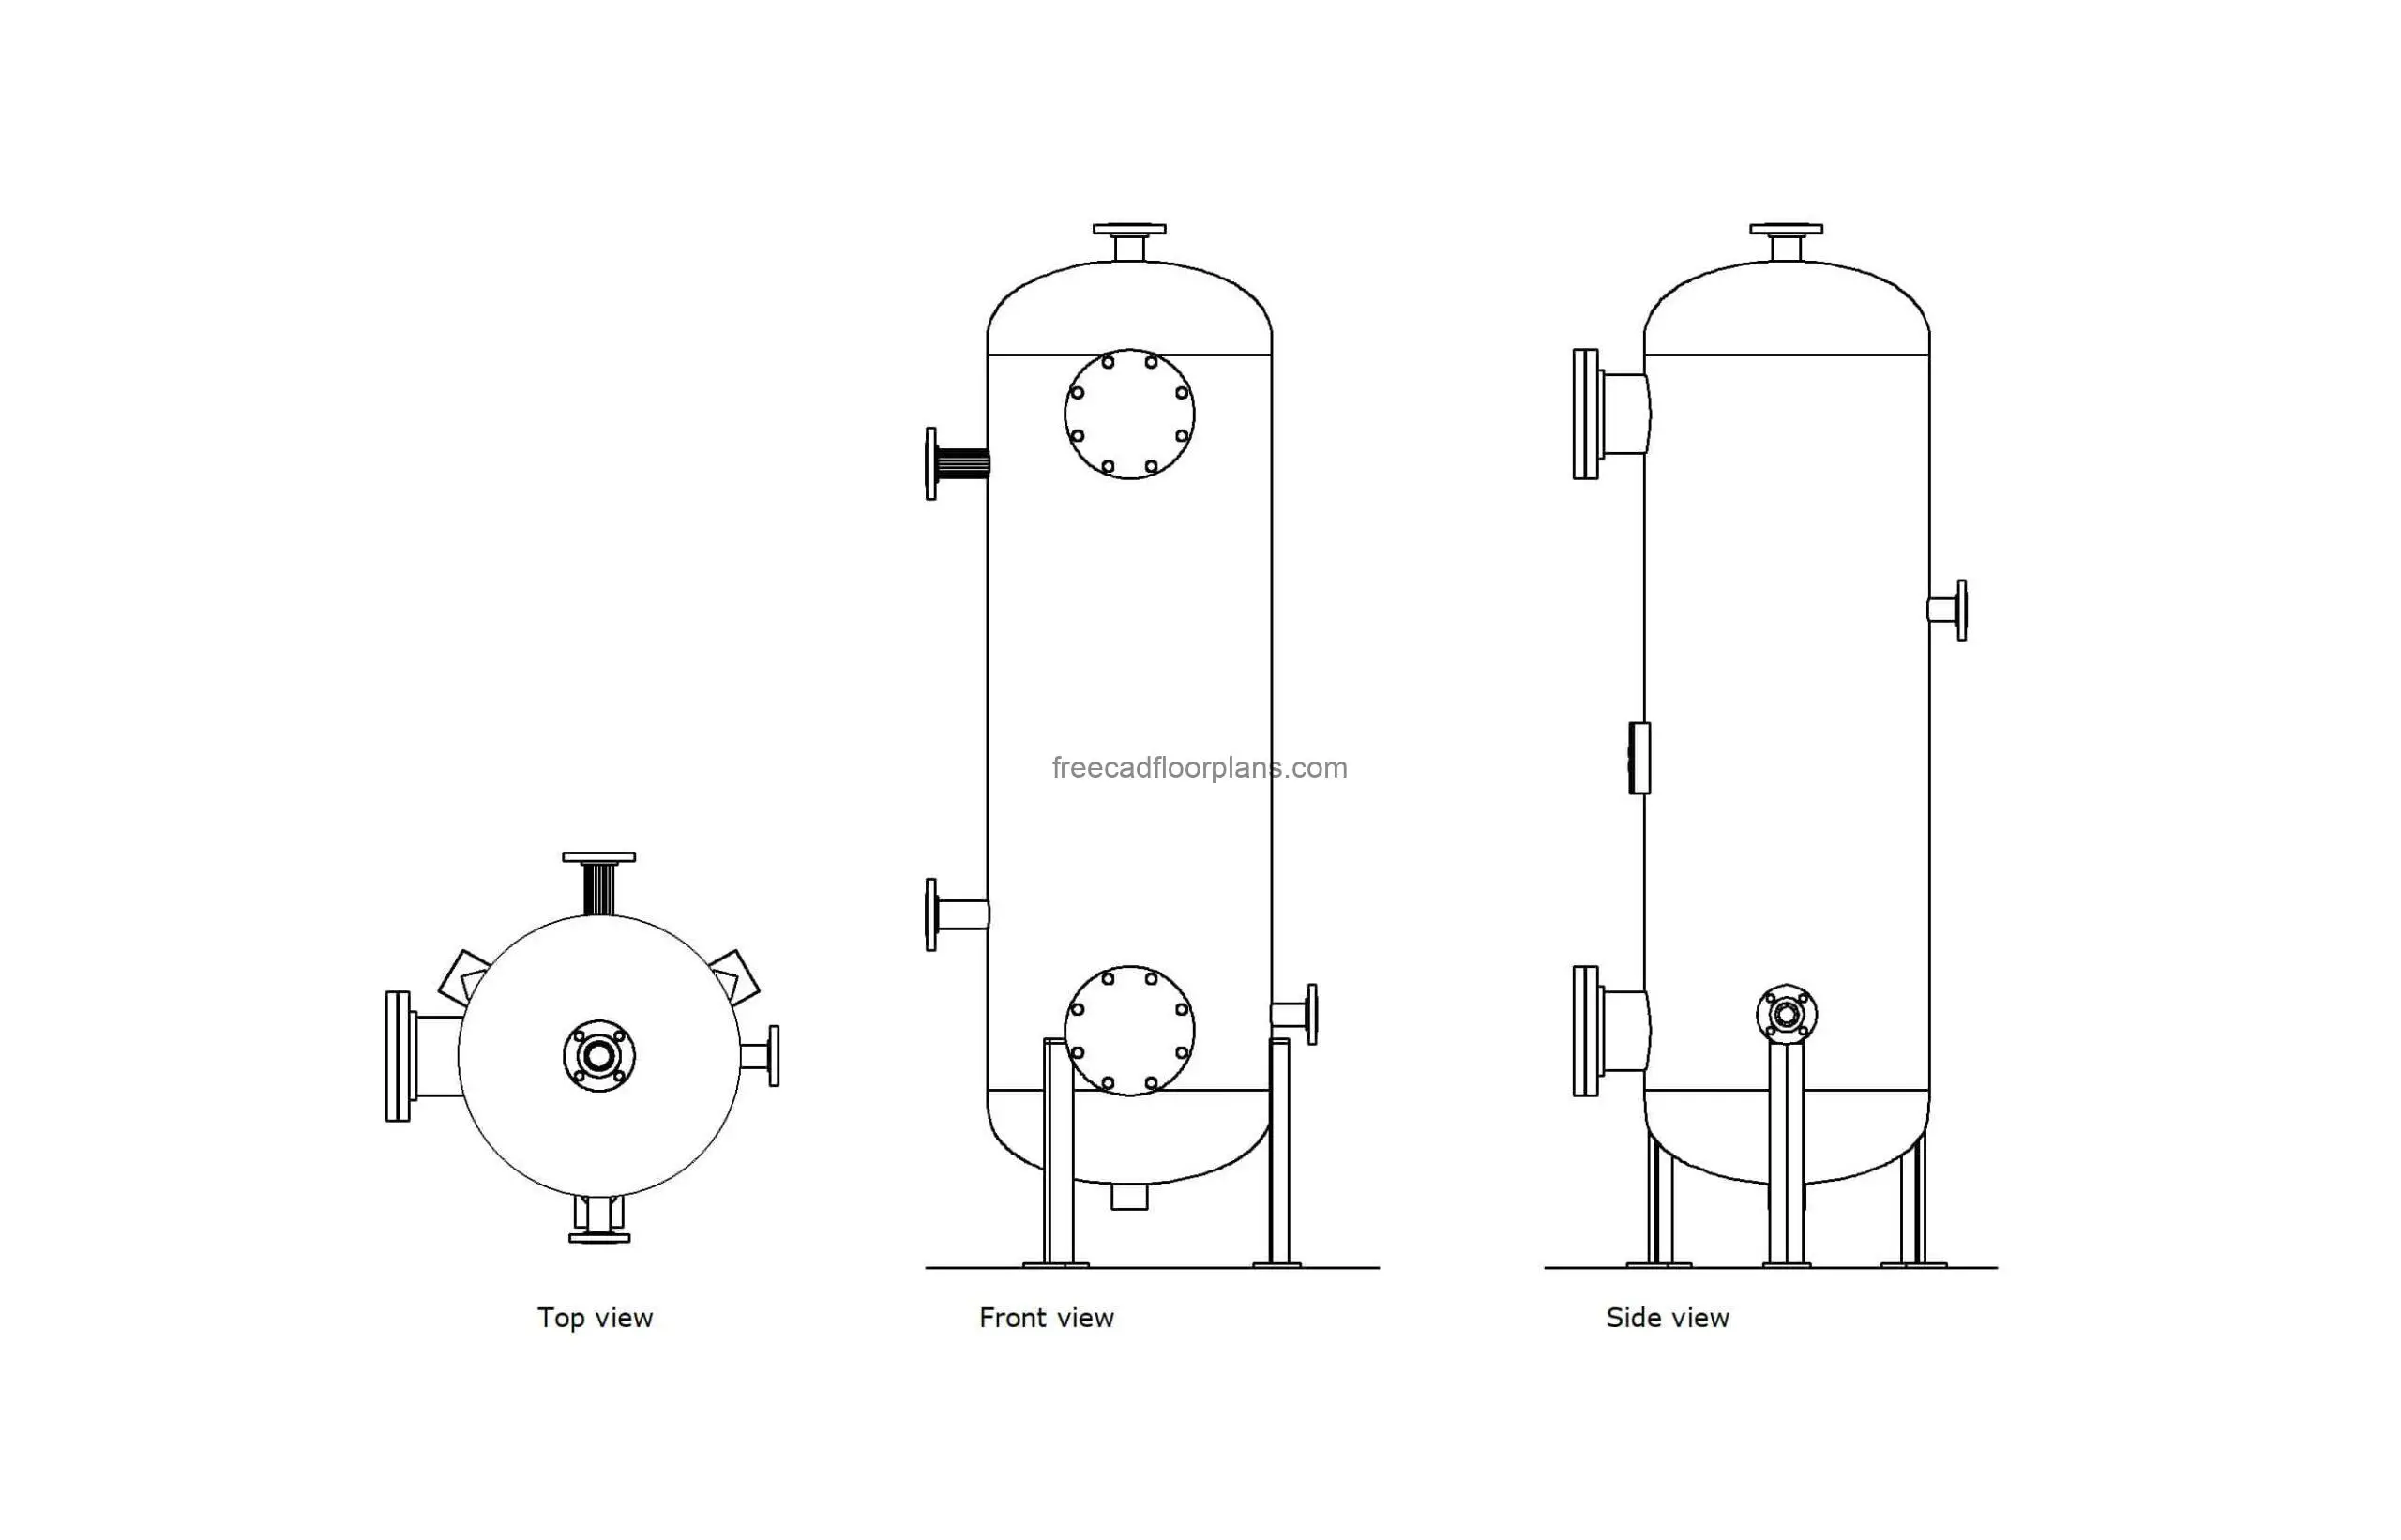nozzle: (1503, 915, 1680, 1099), (829, 828, 1018, 978), (1517, 336, 1675, 514), (1690, 203, 1864, 327), (1879, 535, 2004, 677), (1071, 196, 1204, 304), (1246, 962, 1351, 1078)
